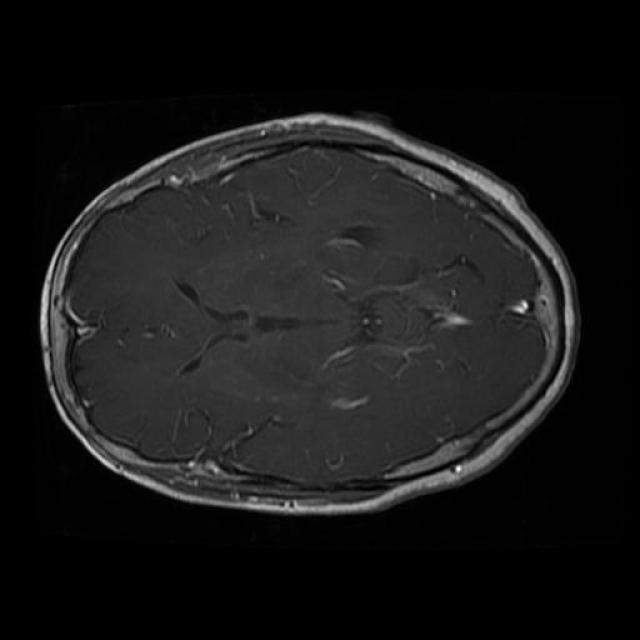Glioma: (338, 225, 377, 247)
